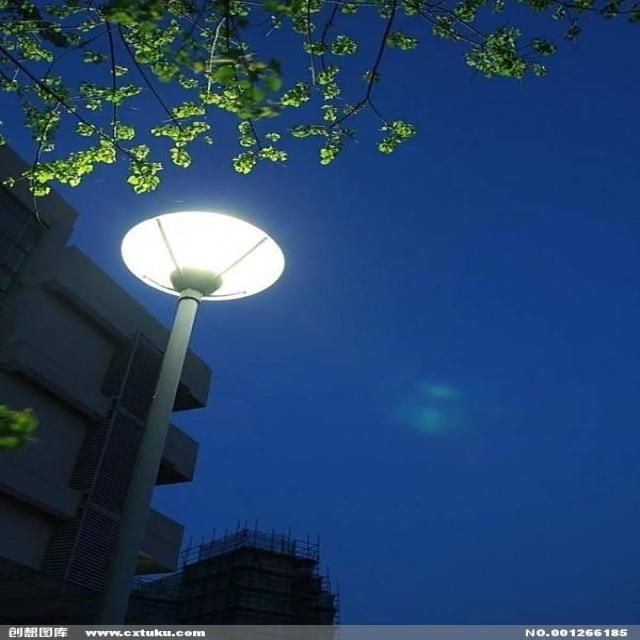other: (97, 203, 332, 311)
